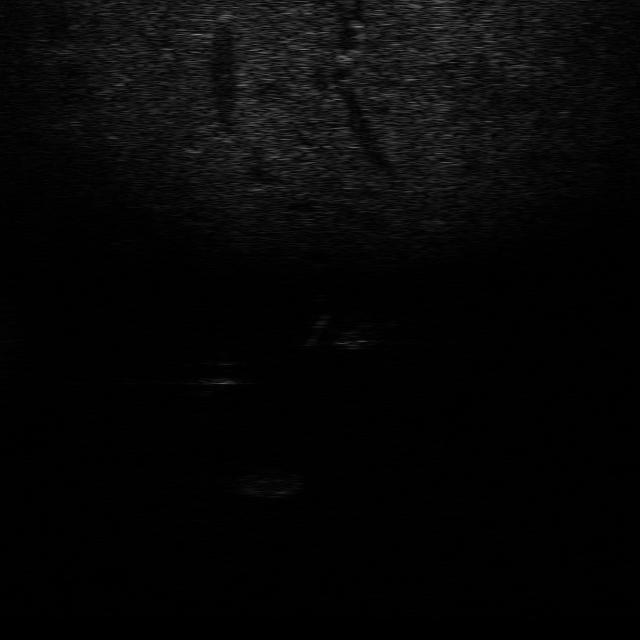ball: (300, 309, 396, 357)
circle cage: (189, 358, 246, 394)
human body: (308, 313, 392, 354)
